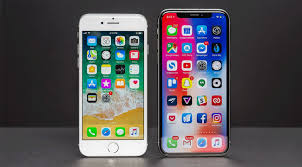iphone: (156, 8, 232, 157), (76, 10, 148, 156)
iphone10: (156, 7, 232, 156), (77, 12, 149, 158)
